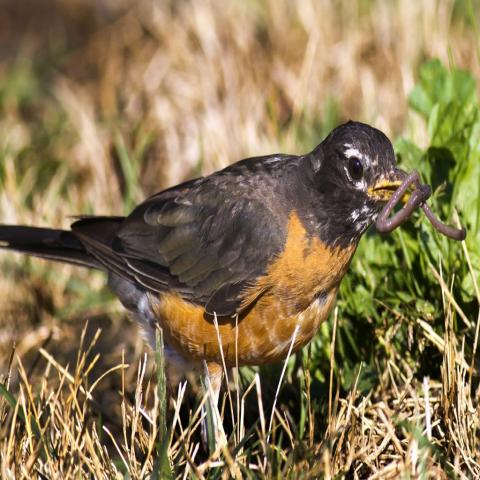bird: (2, 115, 466, 456)
